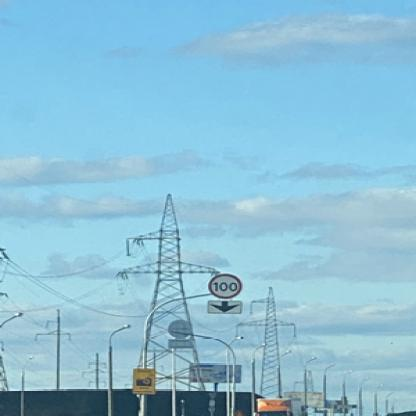speedlimit: (206, 272, 240, 296)
